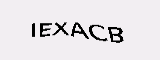Л: (108, 23, 120, 54)
Т: (76, 33, 100, 59)
Х: (118, 22, 130, 44)
Ш: (30, 33, 71, 60)
Я: (94, 29, 111, 58)
